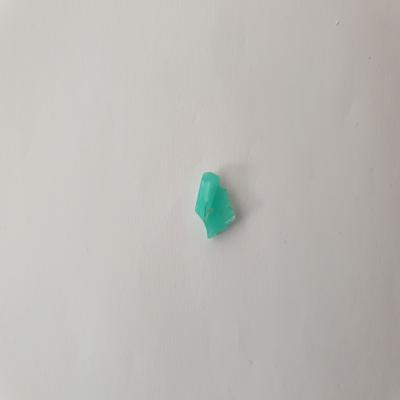plastic: (192, 166, 243, 243)
